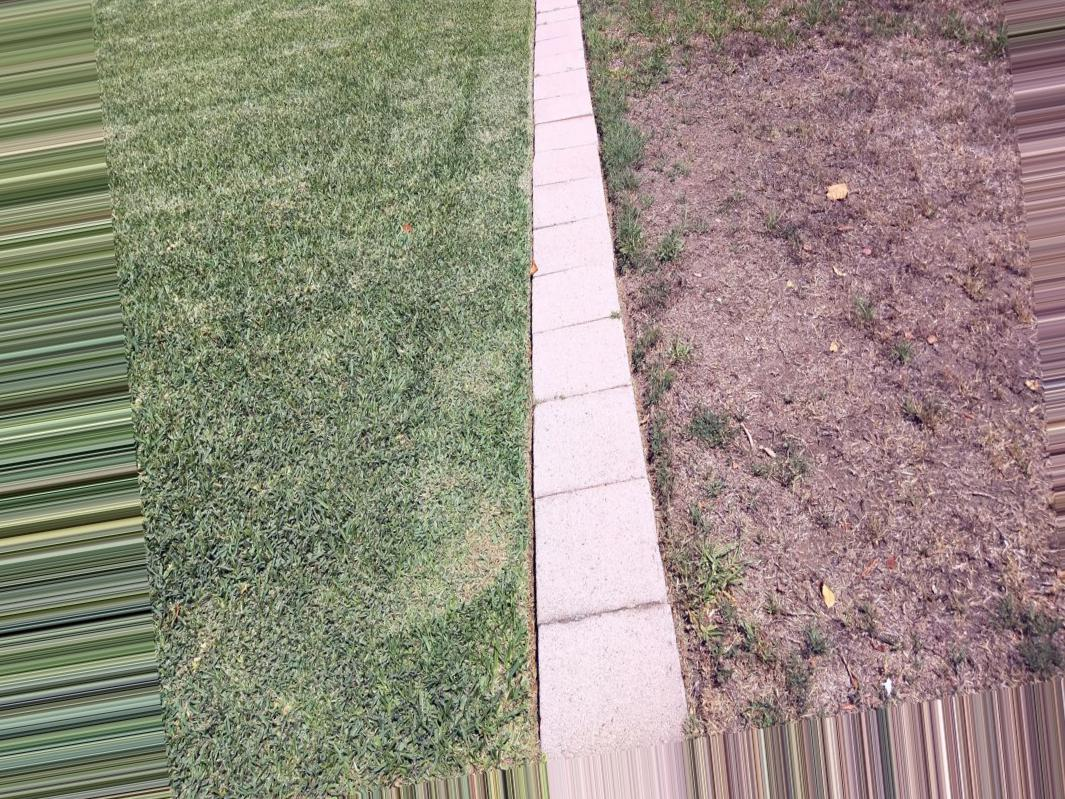patch: (684, 355, 1024, 663), (647, 90, 982, 324)
